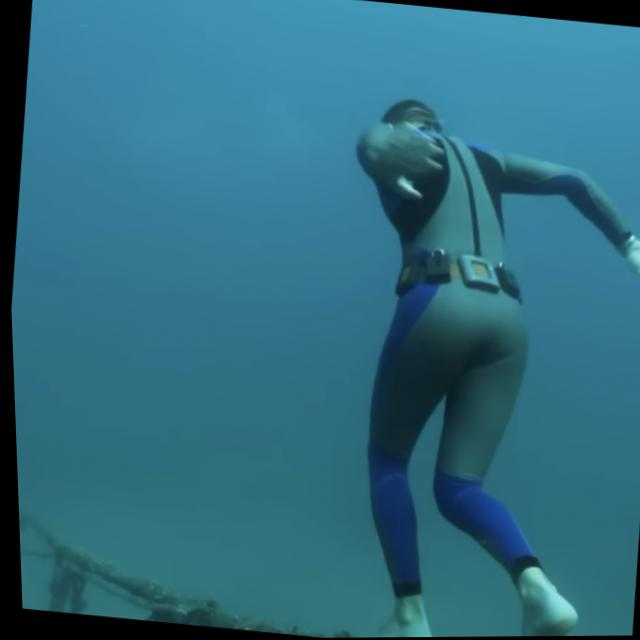human: (292, 79, 640, 638)
